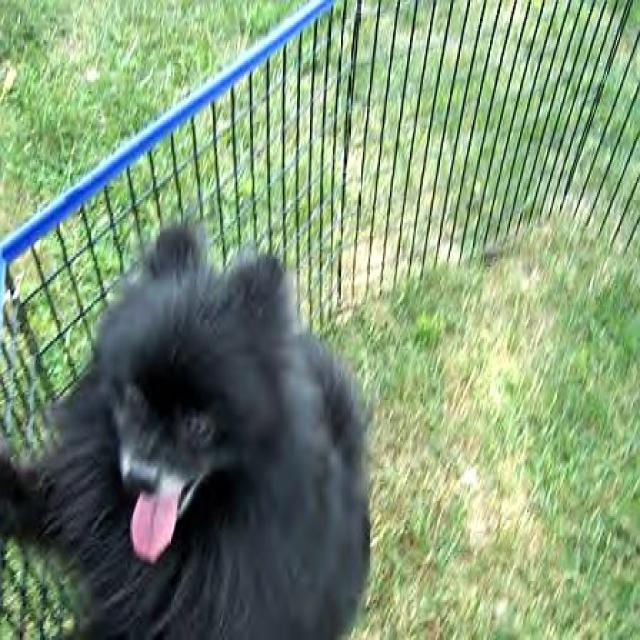Dogs: (0, 215, 374, 638)
